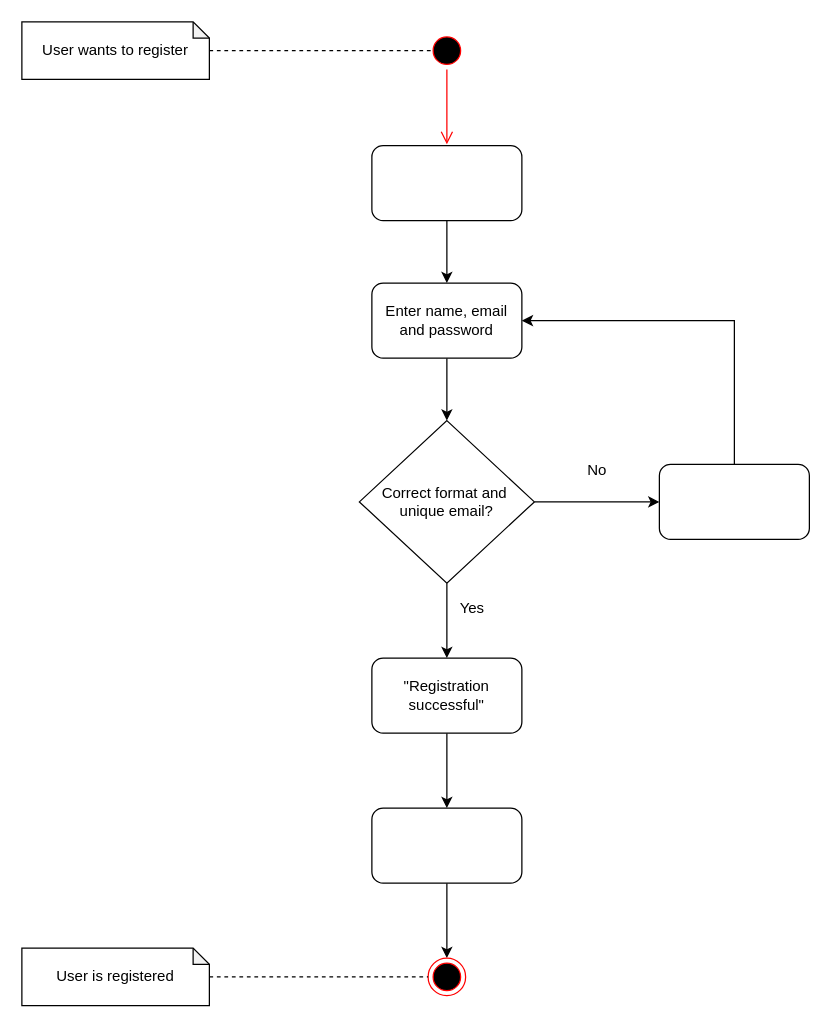
Image size: 831x1028. Some labels were removed from this diagram. Here are the shapes that lost their labels. From the top down, the centre of each, then its label:
At (x=446, y=182): "Open register page".
At (x=733, y=501): "Display error message".
At (x=446, y=845): "Direct to log in page".
